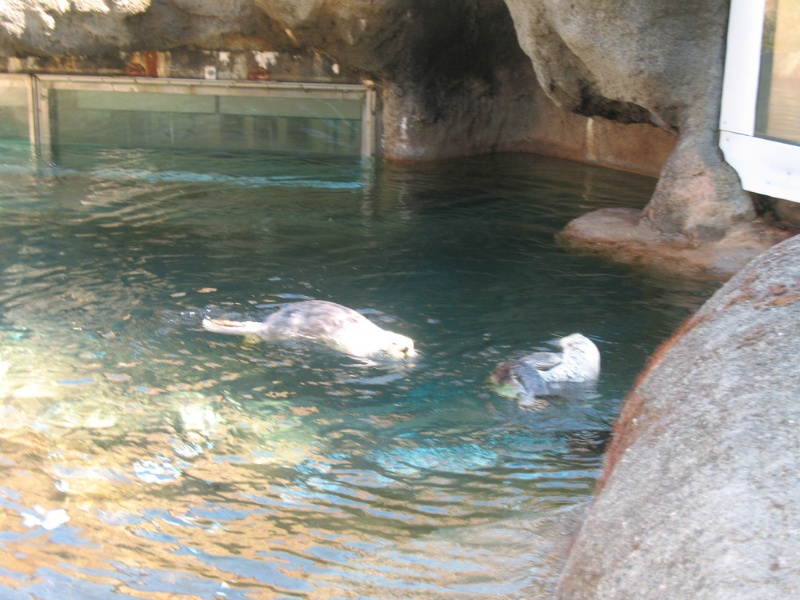minkish: (201, 289, 423, 377), (487, 325, 606, 416)
